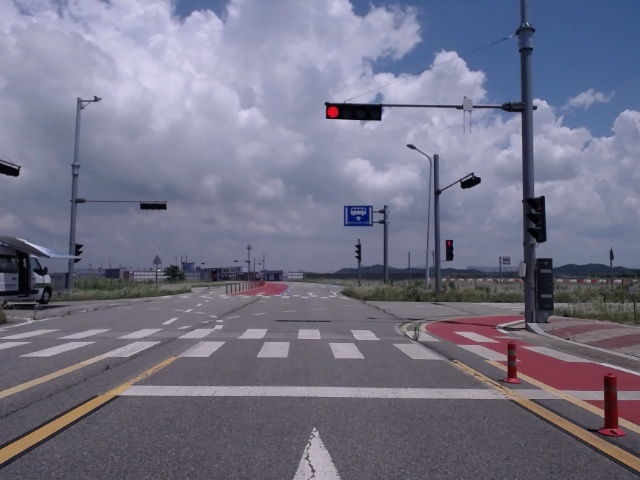red_4: (326, 105, 381, 120)
